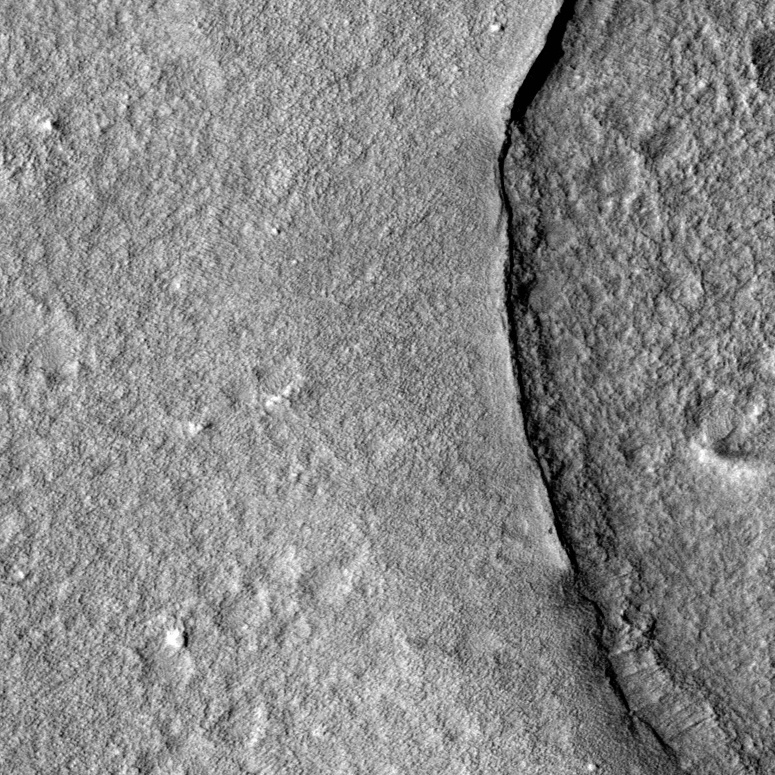dust_devil: (685, 437, 772, 486)
